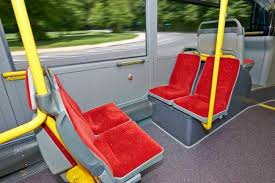seat: (155, 60, 193, 102)
